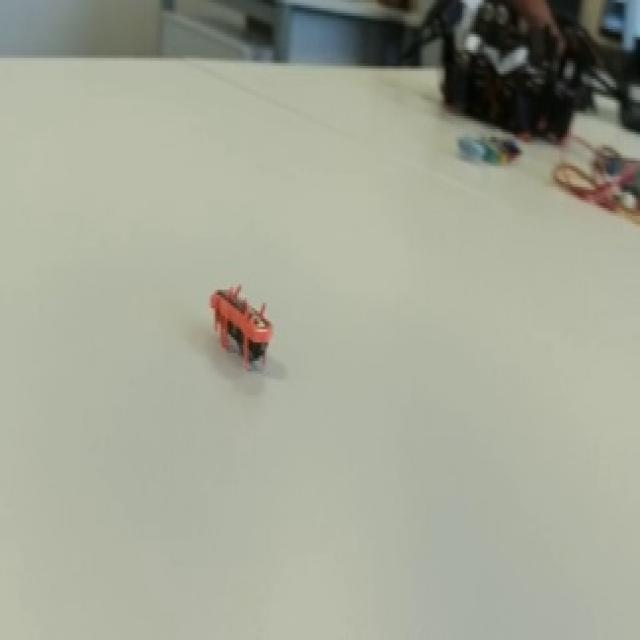7_NanoBug_Naranja: (196, 255, 286, 387)
